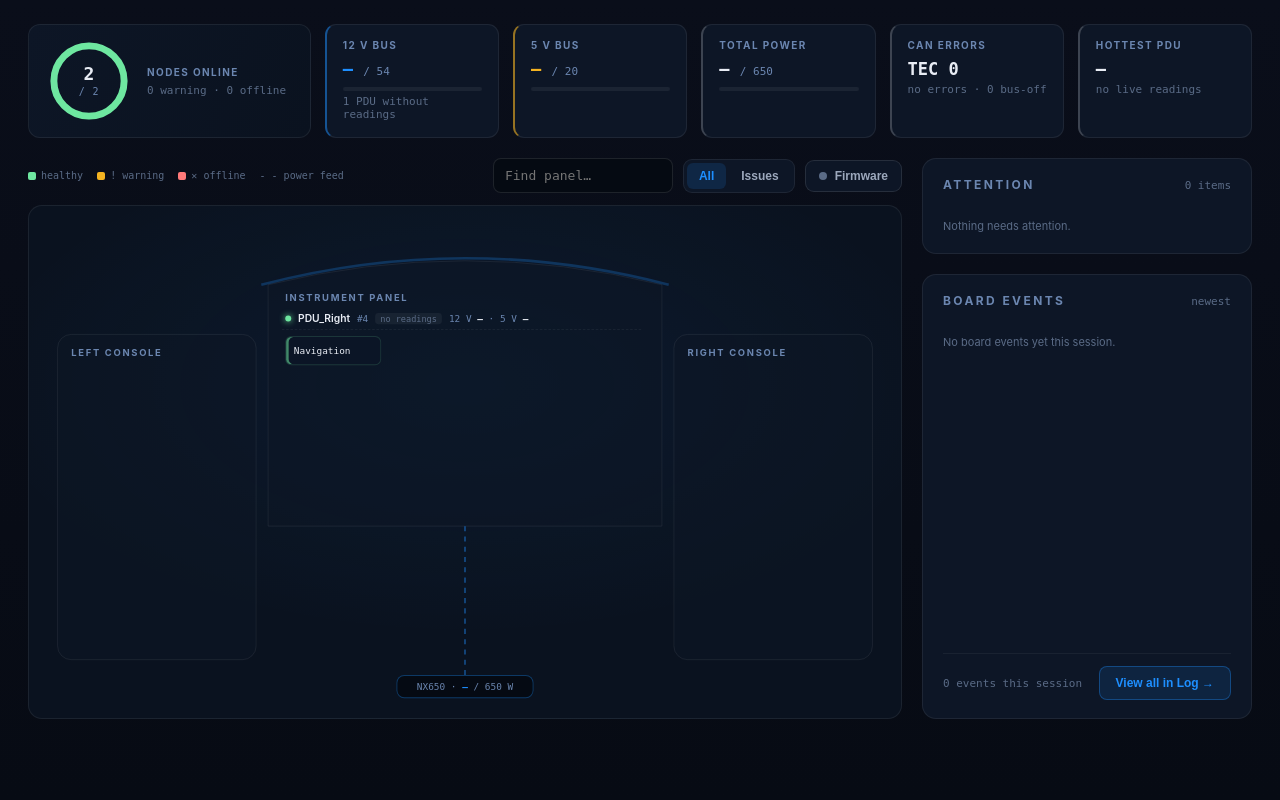
Scenario: T33 Dialog focus (B76) › side panel: focus goes to its first control on open
The image size is (1280, 800).
Click the button titled "#2 Right_Navigation".
click(333, 351)  # box [285,336,381,365]
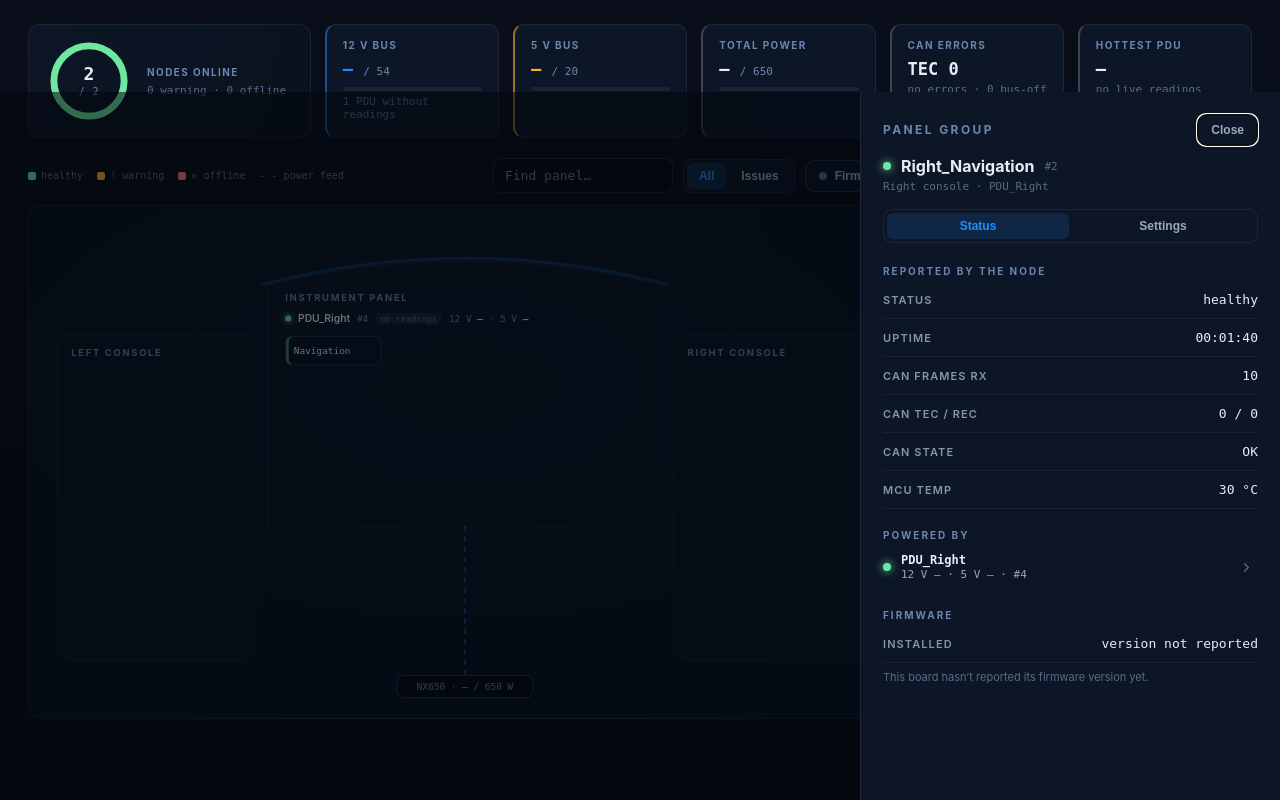
Expected: the button "Close" is shown, [1197,114,1258,146]
